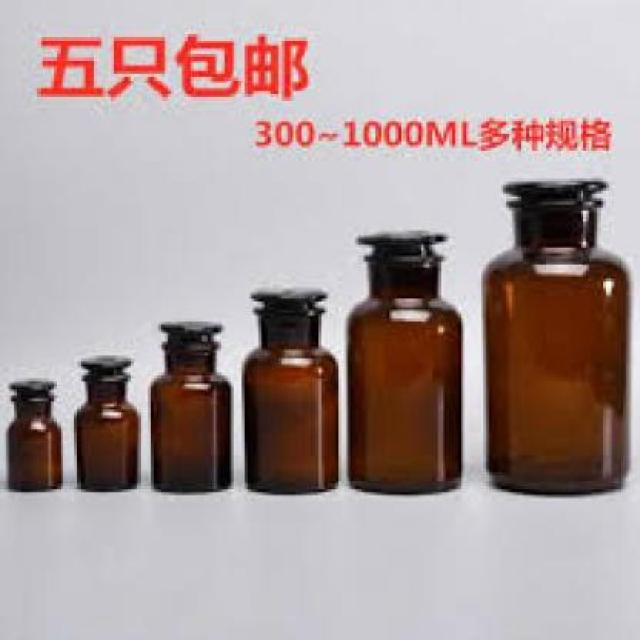kaca: (482, 183, 629, 499), (342, 231, 460, 495), (242, 288, 336, 495), (151, 318, 231, 492), (74, 352, 137, 492), (3, 376, 63, 492)
